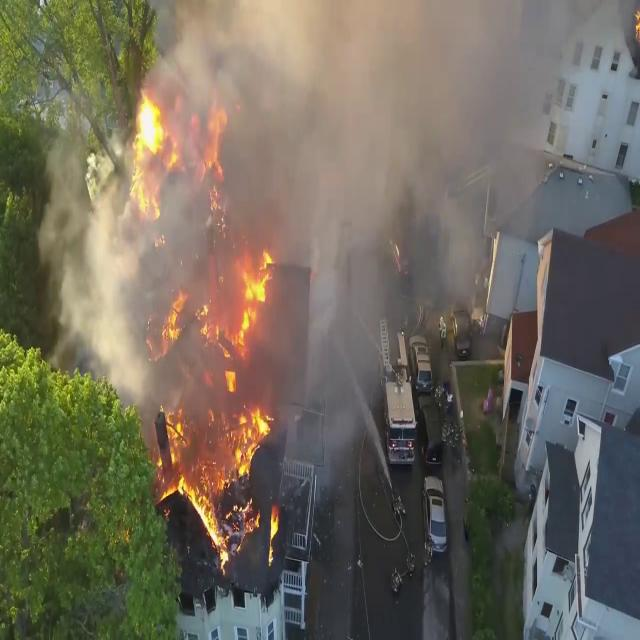Fire: (150, 245, 284, 559)
Smoke: (37, 0, 495, 432), (36, 93, 194, 387)
